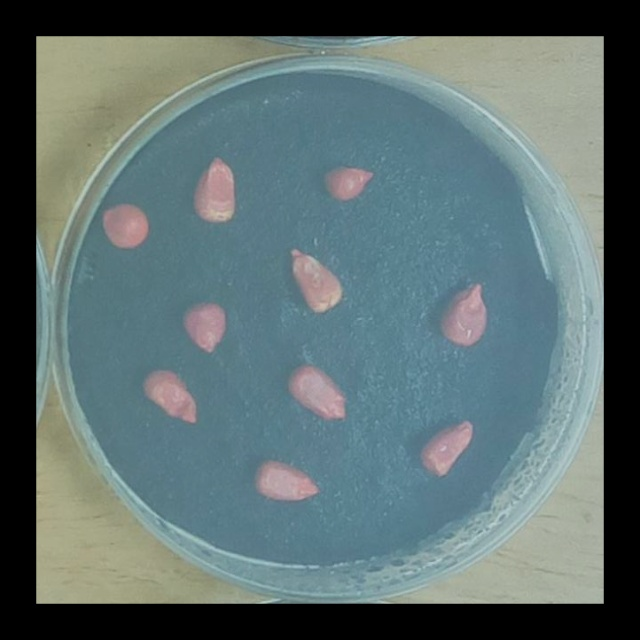Zea mays: (282, 238, 346, 318), (280, 357, 352, 425), (134, 360, 202, 429), (413, 413, 478, 482), (433, 274, 492, 350), (186, 147, 241, 228), (248, 453, 326, 507), (174, 294, 232, 359), (315, 157, 380, 208), (94, 198, 154, 253)
